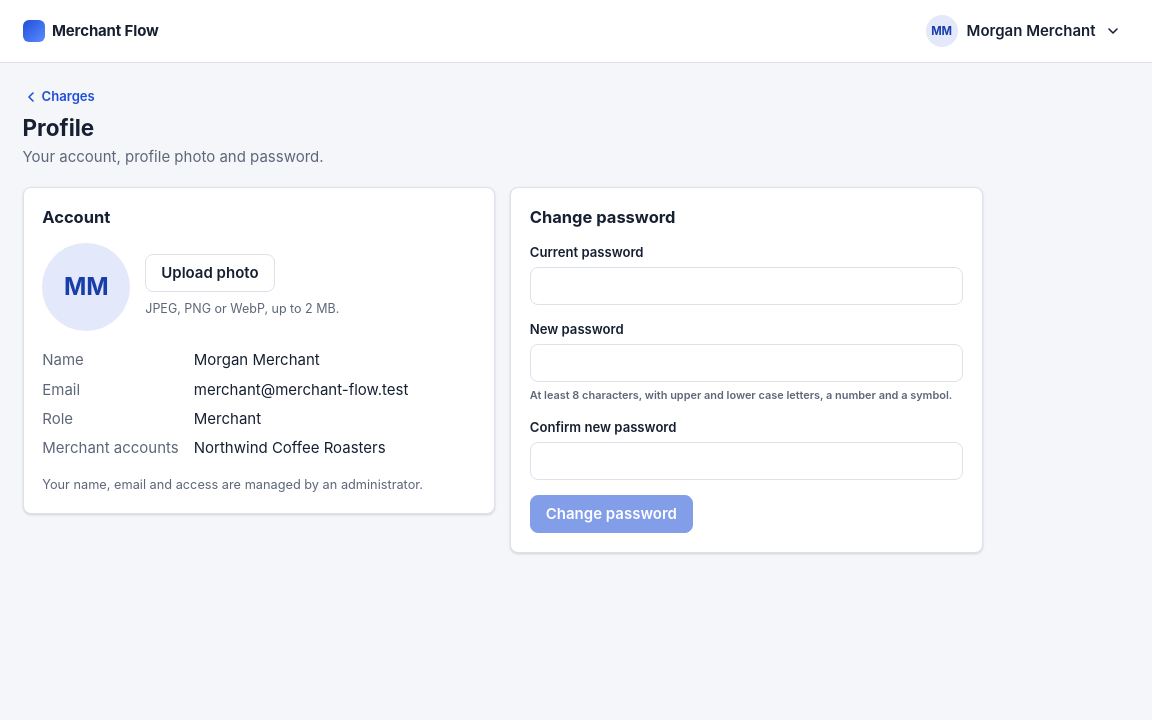
Scenario: profile page › changes the password and clears the form
The width and height of the screenshot is (1152, 720).
expect the heading "Profile" is shown: met, box top-left (22, 114), bottom-right (94, 141)
Type "Old-Passw0rd!" into the password field labelled "Current password". click: (746, 286)
box: top-left (530, 267), bottom-right (963, 305)
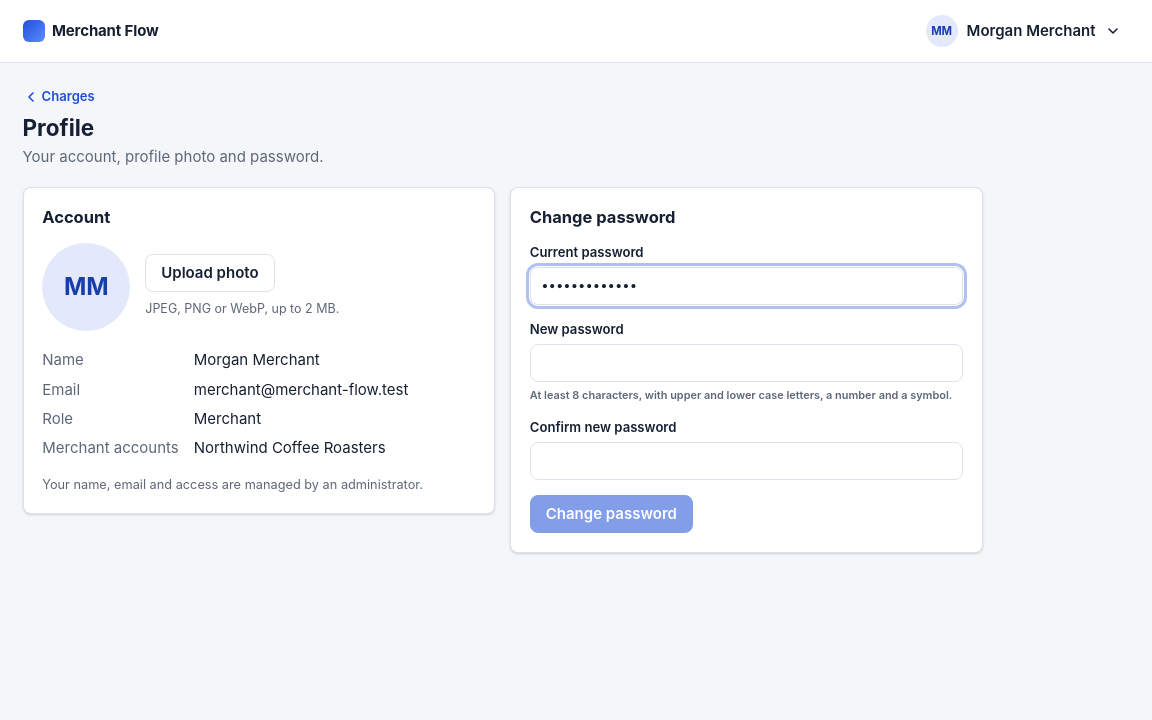
Type "New-Passw0rd!" into the password field labelled "New password". click: (746, 363)
box: top-left (530, 344), bottom-right (963, 382)
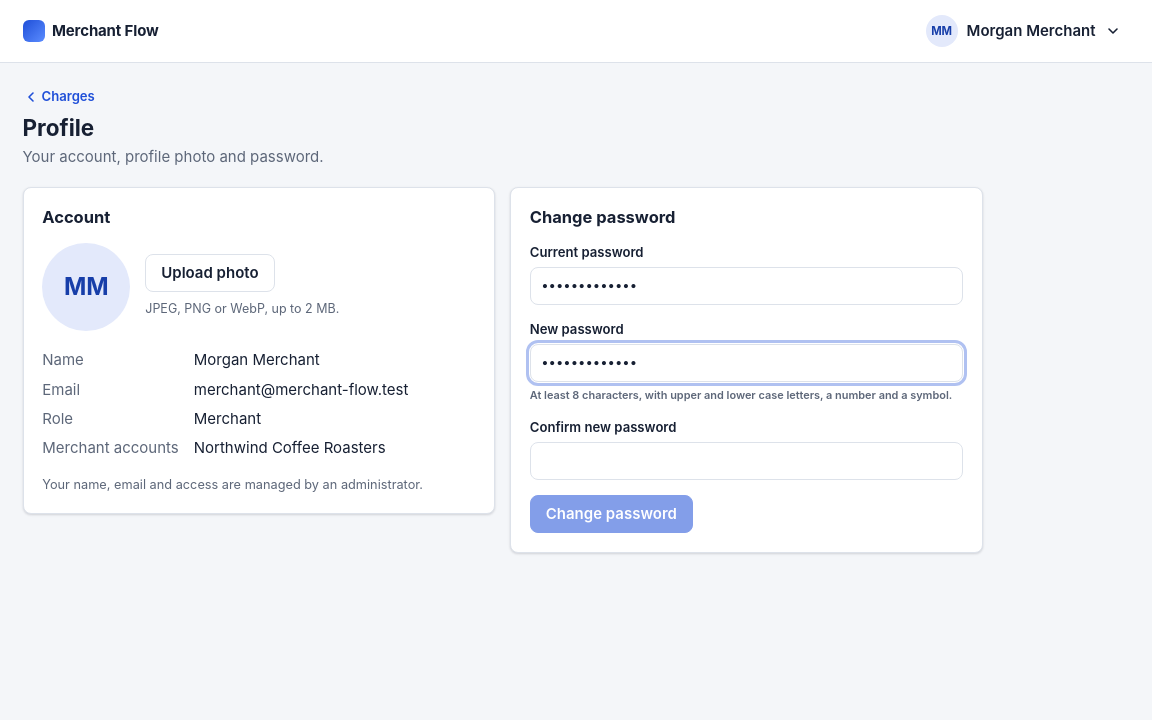
Type "New-Passw0rd!" into the password field labelled "Confirm new password". click: (746, 461)
box: top-left (530, 442), bottom-right (963, 480)
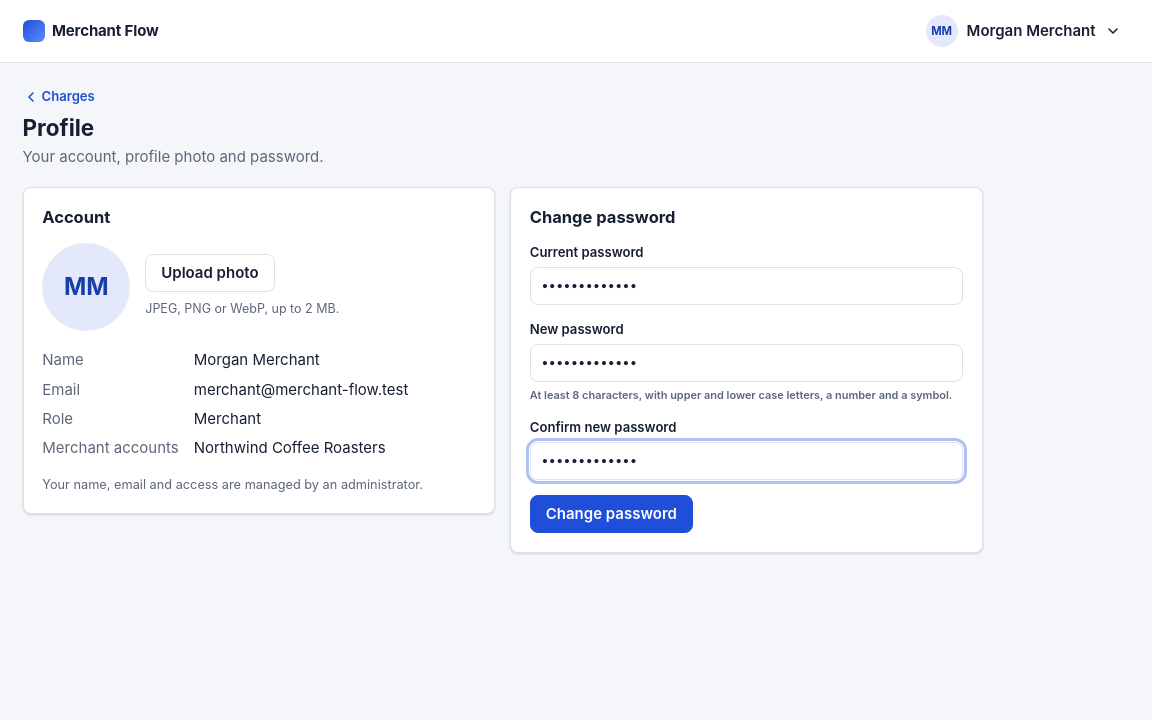
Click the button "Change password". click: click(611, 514)
box: top-left (530, 495), bottom-right (693, 533)
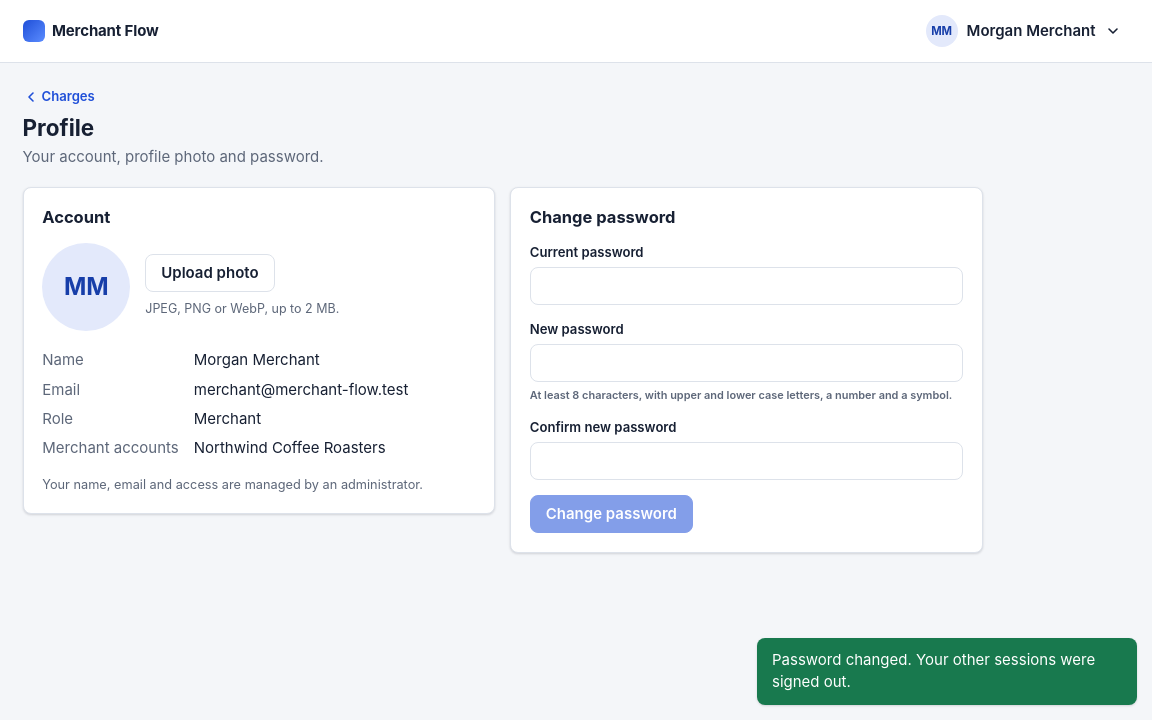
expect the text "Password changed. Your other sessions were signed out." is shown: met, box top-left (757, 638), bottom-right (1137, 705)
expect the password field labelled "New password" is empty: met, box top-left (530, 344), bottom-right (963, 382)
